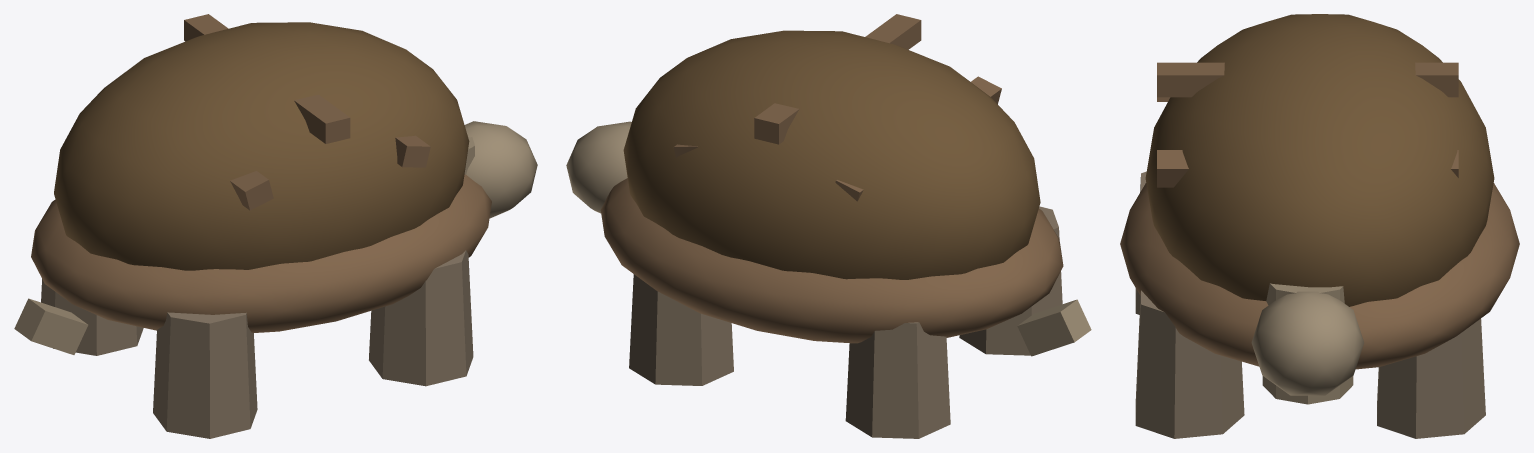
The model's file is loc_sy_tortoise.glb.
3 renders of one model, left to right at view 1: azimuth 30°, elevation 25°; view 2: azimuth 150°, elevation 25°; view 3: azimuth 270°, elevation 25°, orthographic. The views are drawn at different scales.
Parts seen in each view (by area): view 1: shell_dome, shell_rim, Cone.004, Cone.002, head, tail, Cone.003, shell_scute_0, shell_scute_2, shell_scute_1; view 2: shell_dome, shell_rim, Cone.003, Cone.001, head, Cone.004, tail, shell_scute_0, shell_scute_2; view 3: shell_dome, shell_rim, Cone.002, Cone.001, head, shell_scute_0, Cone, shell_scute_1.
Part boxes in pixels (<box>): shell_dome: <box>54,22,469,270</box>; shell_rim: <box>31,174,491,332</box>; Cone.004: <box>153,312,257,438</box>; Cone.002: <box>369,250,473,386</box>; head: <box>464,121,537,218</box>; tail: <box>14,298,88,354</box>; Cone.003: <box>41,279,143,355</box>; shell_scute_0: <box>184,14,350,143</box>; shell_scute_2: <box>230,171,273,210</box>; shell_scute_1: <box>395,135,430,167</box>; shell_dome: <box>623,30,1040,279</box>; shell_rim: <box>600,178,1063,343</box>; Cone.003: <box>845,322,950,438</box>; Cone.001: <box>629,274,733,385</box>; head: <box>566,121,631,213</box>; Cone.004: <box>959,206,1062,355</box>; tail: <box>1017,299,1091,356</box>; shell_scute_0: <box>754,14,921,144</box>; shell_scute_2: <box>835,76,1001,201</box>; shell_dome: <box>1145,14,1494,306</box>; shell_rim: <box>1120,183,1519,369</box>; Cone.002: <box>1135,290,1244,438</box>; Cone.001: <box>1377,318,1485,438</box>; head: <box>1251,291,1364,395</box>; shell_scute_0: <box>1157,62,1458,97</box>; Cone: <box>1262,283,1353,404</box>; shell_scute_1: <box>1157,150,1458,187</box>.
Size of the model in its own units: 1.03 by 0.5848 by 0.6624.
